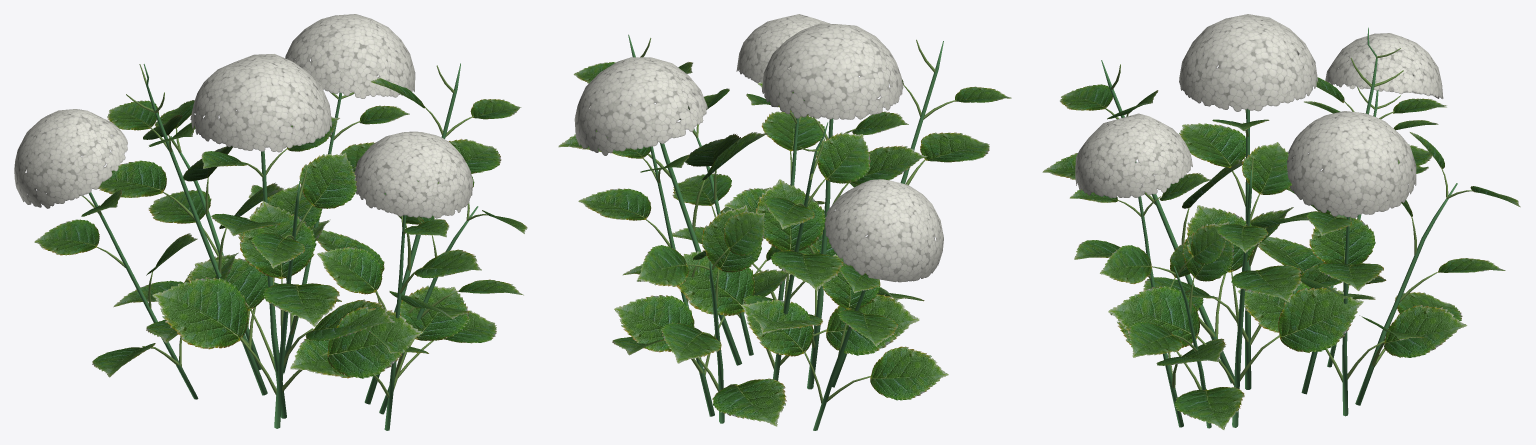
The model's file is hydrangea_white.gltf.
3 renders of one model, left to right at view 1: azimuth 30°, elevation 25°; view 2: azimuth 150°, elevation 25°; view 3: azimuth 270°, elevation 25°, orthographic. The views are drawn at different scales.
Parts seen in each view (by area): view 1: hydrangea_white; view 2: hydrangea_white; view 3: hydrangea_white.
Boxes of the visible parts, x1,y1,x2,y2 form: hydrangea_white: (14, 14, 527, 430); hydrangea_white: (558, 14, 1011, 430); hydrangea_white: (1042, 14, 1520, 429).
Bounding box in the file's own units: 0.7979 × 0.6494 × 0.782.
Materials: 4 (2 with a texture image).
